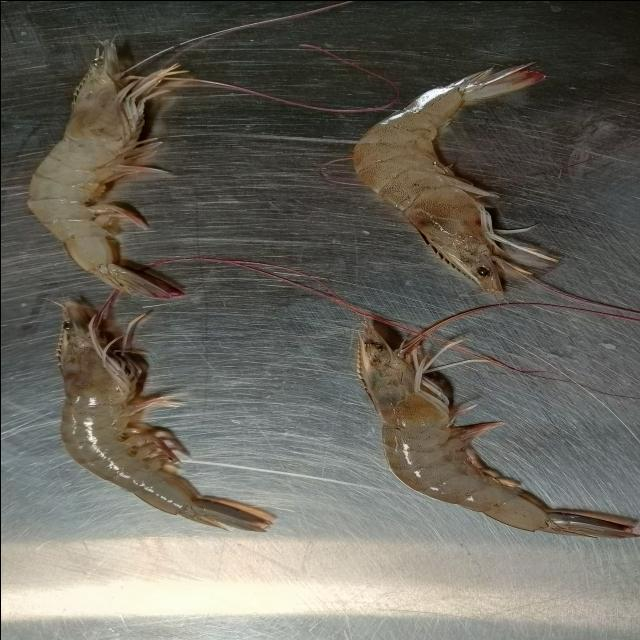shrimp: (357, 310, 637, 538), (55, 293, 273, 532), (351, 61, 546, 302), (27, 36, 186, 298)
